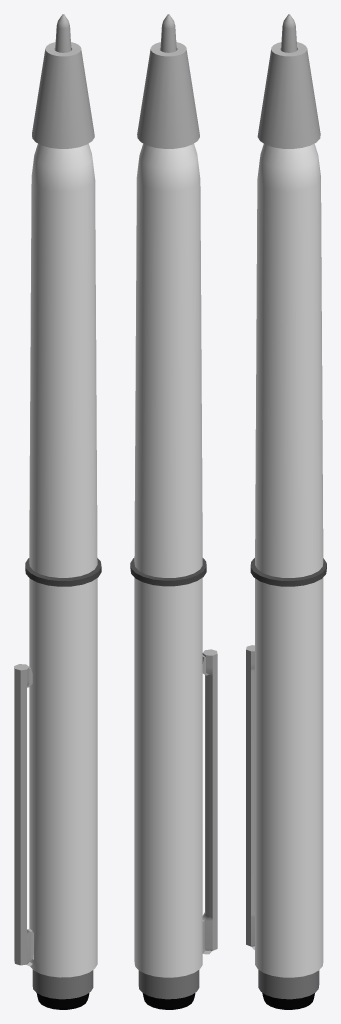
File: scenee-transformed.glb
3 views of the same model, side by side, from view 1: azimuth 30°, elevation 25°; view 2: azimuth 210°, elevation 25°; view 3: azimuth 330°, elevation 25° (orthographic).
Visible parts, largest first — view 1: pen_lambert3_0, pen_blinn4_0; view 2: pen_lambert3_0, pen_blinn4_0; view 3: pen_lambert3_0, pen_blinn4_0.
Part boxes in pixels (box(x1,y1,x2,y2)): pen_lambert3_0: box(14, 143, 97, 1009); pen_blinn4_0: box(25, 14, 101, 999); pen_lambert3_0: box(134, 143, 217, 1009); pen_blinn4_0: box(130, 14, 206, 999); pen_lambert3_0: box(246, 143, 323, 1009); pen_blinn4_0: box(250, 14, 326, 999).
Size of the model in its own units: 0.2732 by 3.29 by 0.2313.
Materials: 2 (2 with a texture image).
